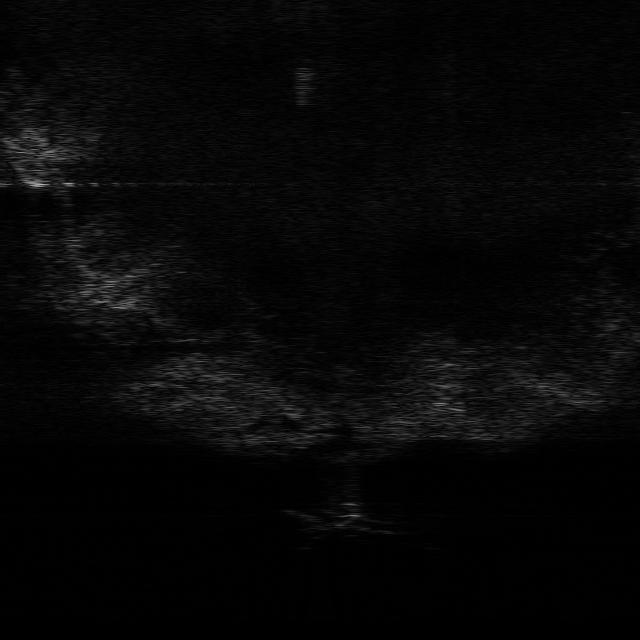plane: (281, 501, 399, 535)
